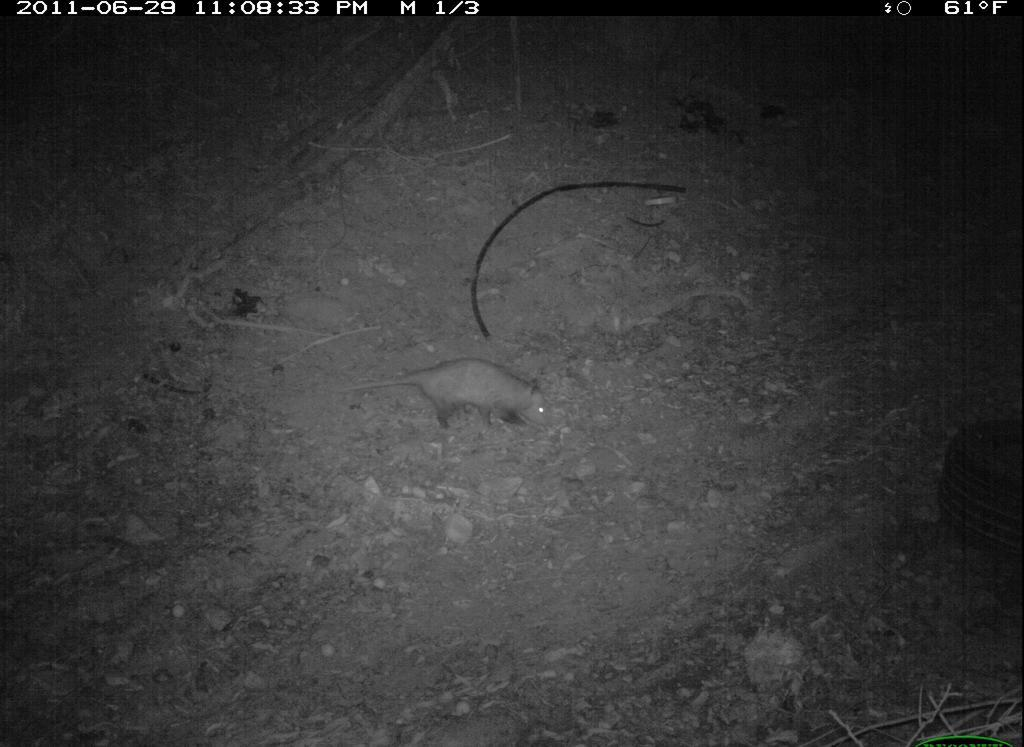opossum: (336, 356, 577, 442)
